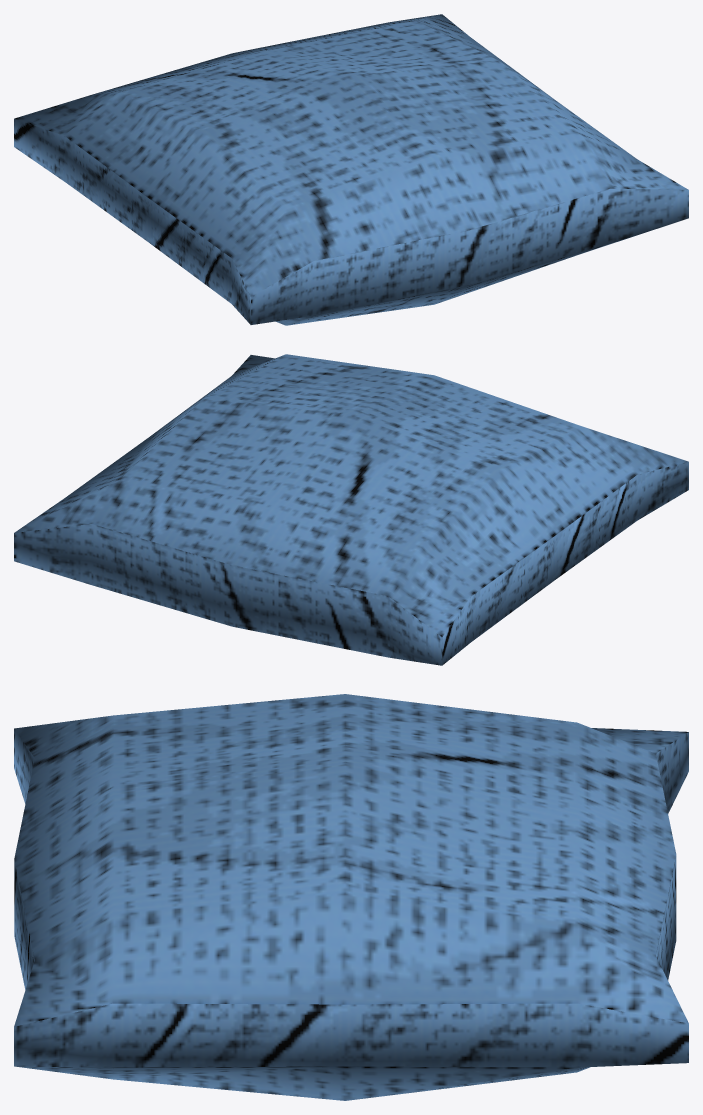
File: Pillow.fbx
The picture shows the model from 3 angles, top to bottom: view 1: azimuth 30°, elevation 25°; view 2: azimuth 150°, elevation 25°; view 3: azimuth 270°, elevation 25°; orthographic projection. The views are drawn at different scales.
Visible parts, largest first — view 1: pCube1; view 2: pCube1; view 3: pCube1.
Part boxes in pixels (left/top/right/bottom): pCube1: left=14, top=14, right=688, bottom=325; pCube1: left=14, top=354, right=688, bottom=665; pCube1: left=14, top=694, right=688, bottom=1100.
Bounding box in the file's own units: 77.05 × 31.67 × 73.66.
